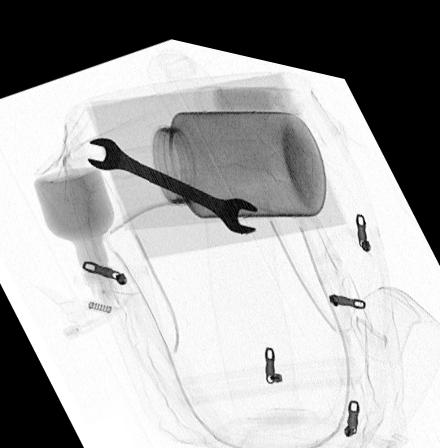Wrench: (82, 129, 261, 223)
